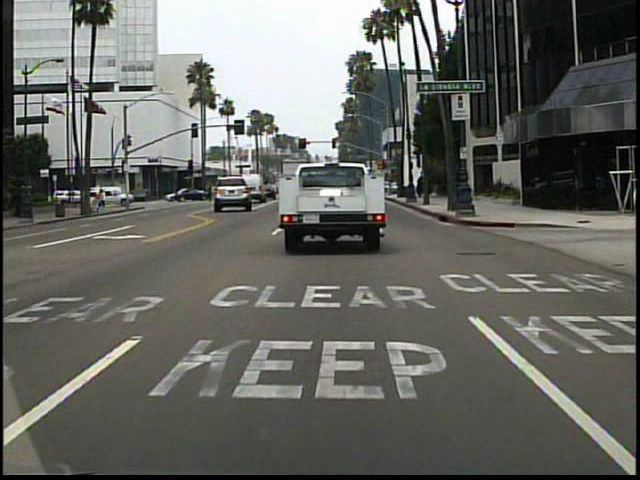person: (99, 188, 112, 215)
